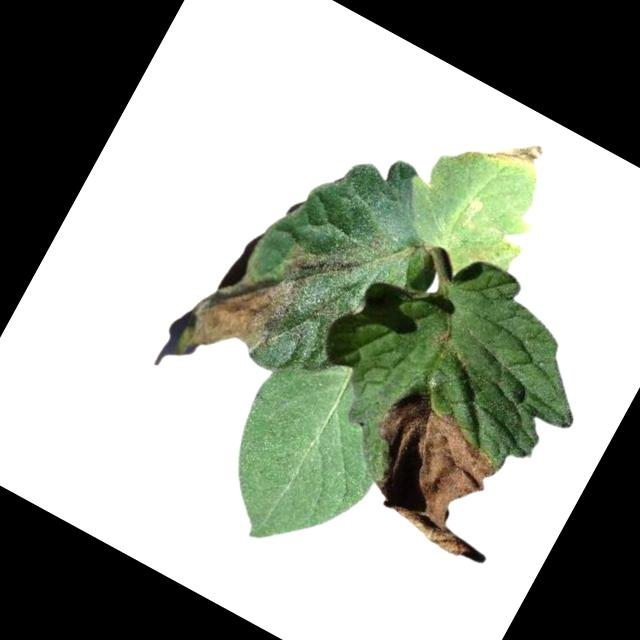Late_blight: (339, 375, 524, 558), (155, 215, 318, 401), (485, 125, 549, 182)
healthy: (194, 332, 416, 575)
